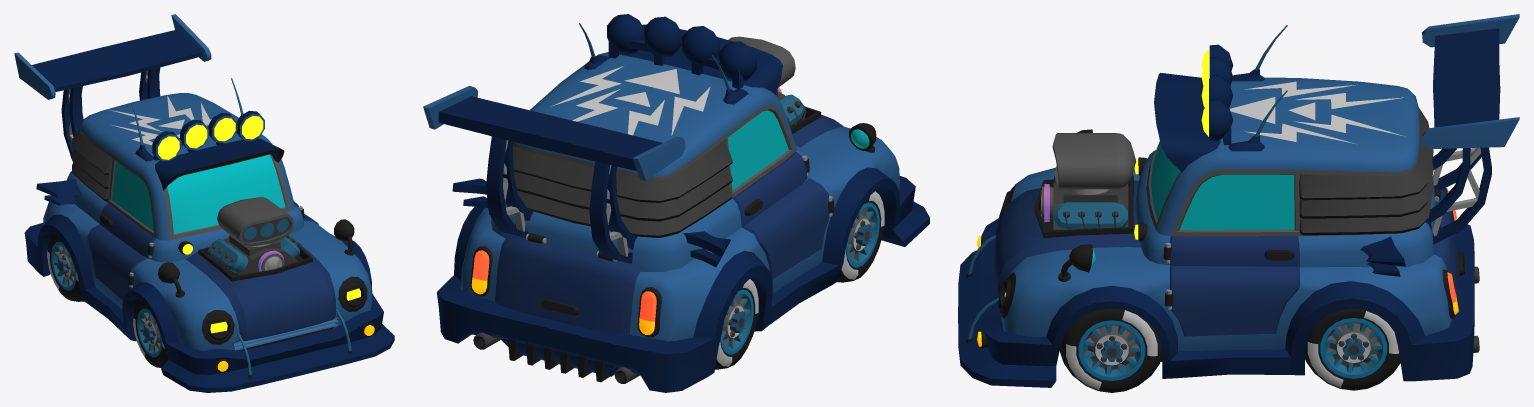
The model's file is SVehicle001.fbx.
The picture shows the model from 3 angles, left to right: view 1: azimuth 30°, elevation 25°; view 2: azimuth 150°, elevation 25°; view 3: azimuth 270°, elevation 25°; orthographic projection. The views are drawn at different scales.
Visible parts, largest first — view 1: SVehicle001, SV001_BR, SV001_FR; view 2: SVehicle001, SV001_FR, SV001_BR; view 3: SVehicle001, SV001_FL, SV001_BL.
Part boxes in pixels (x1,y1,x2,y2): SVehicle001: (14,14,394,392); SV001_BR: (47,233,83,301); SV001_FR: (133,299,168,367); SVehicle001: (423,14,929,392); SV001_FR: (837,190,884,282); SV001_BR: (715,278,758,369); SVehicle001: (958,14,1519,387); SV001_FL: (1059,309,1162,392); SV001_BL: (1305,308,1400,390).
Size of the model in its own units: 279 by 257 by 470.
1 material, 1 textured.
